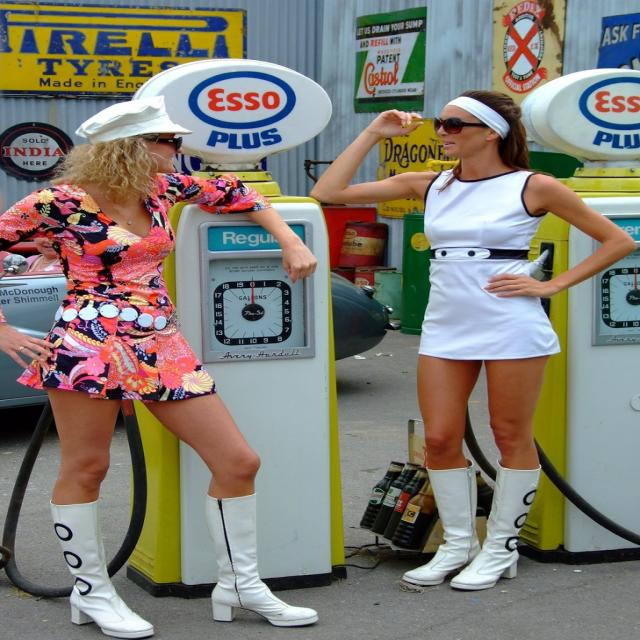esso: (182, 67, 302, 132), (576, 72, 640, 135)
